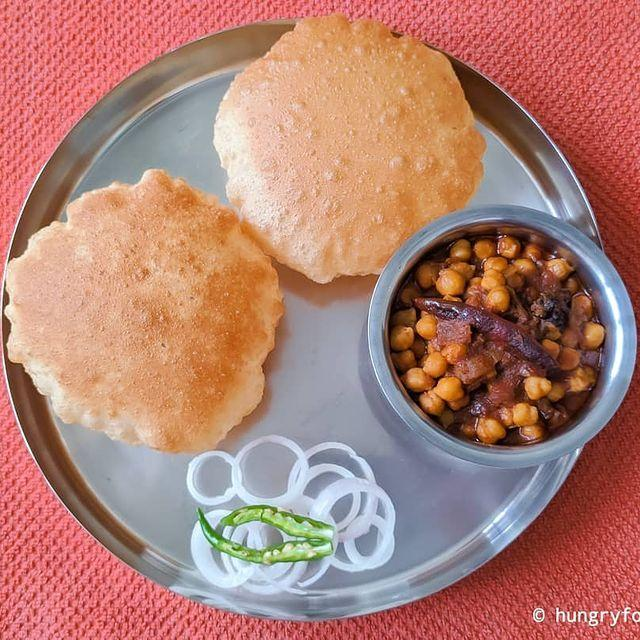Chole: (376, 221, 634, 455)
